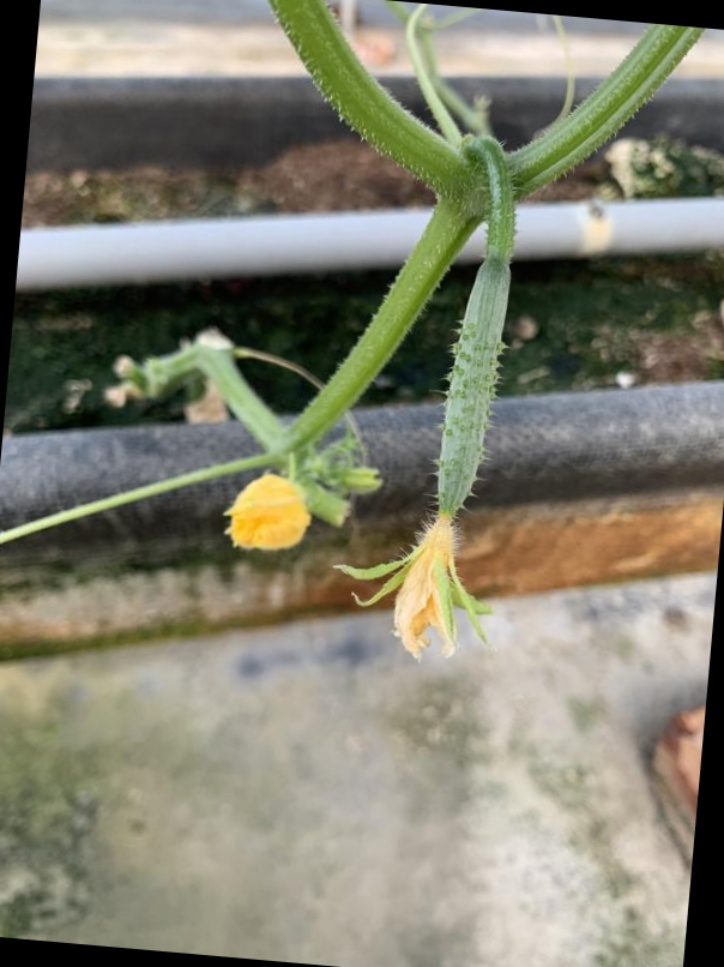bear: (348, 250, 532, 667)
bud: (233, 460, 321, 552)
